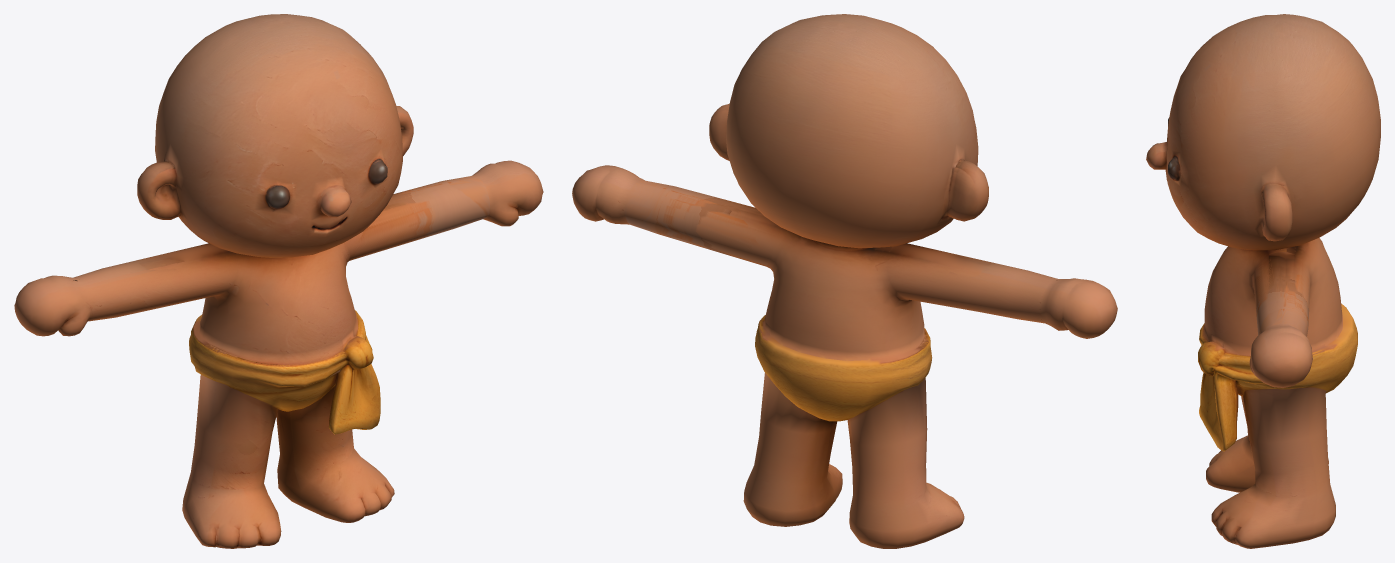
Rendered from resident_bald_lowpoly_textured.glb.
3 views of the same model, side by side, from view 1: azimuth 30°, elevation 25°; view 2: azimuth 150°, elevation 25°; view 3: azimuth 270°, elevation 25° (orthographic). The views are drawn at different scales.
Visible parts, largest first — view 1: mesh_rep_0_ori_repair_quad; view 2: mesh_rep_0_ori_repair_quad; view 3: mesh_rep_0_ori_repair_quad.
Part boxes in pixels (x1,y1,x2,y2): mesh_rep_0_ori_repair_quad: [14, 14, 543, 548]; mesh_rep_0_ori_repair_quad: [572, 14, 1117, 548]; mesh_rep_0_ori_repair_quad: [1146, 14, 1380, 548].
Bounding box in the file's own units: 1 × 0.8926 × 0.3984.
1 material, 1 textured.
